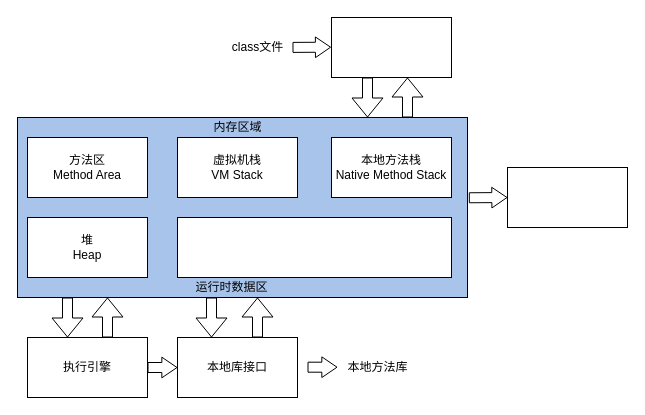
The diagram is 645 pixels wide and 415 high, and some of its shapes have lost their labels. The centre of each missing label's shape, as x and y in pixels:
"垃圾收集器" belongs at [567,197].
"程序计数器 Program Counter Register" belongs at [314,247].
"类加载器" belongs at [391,47].
